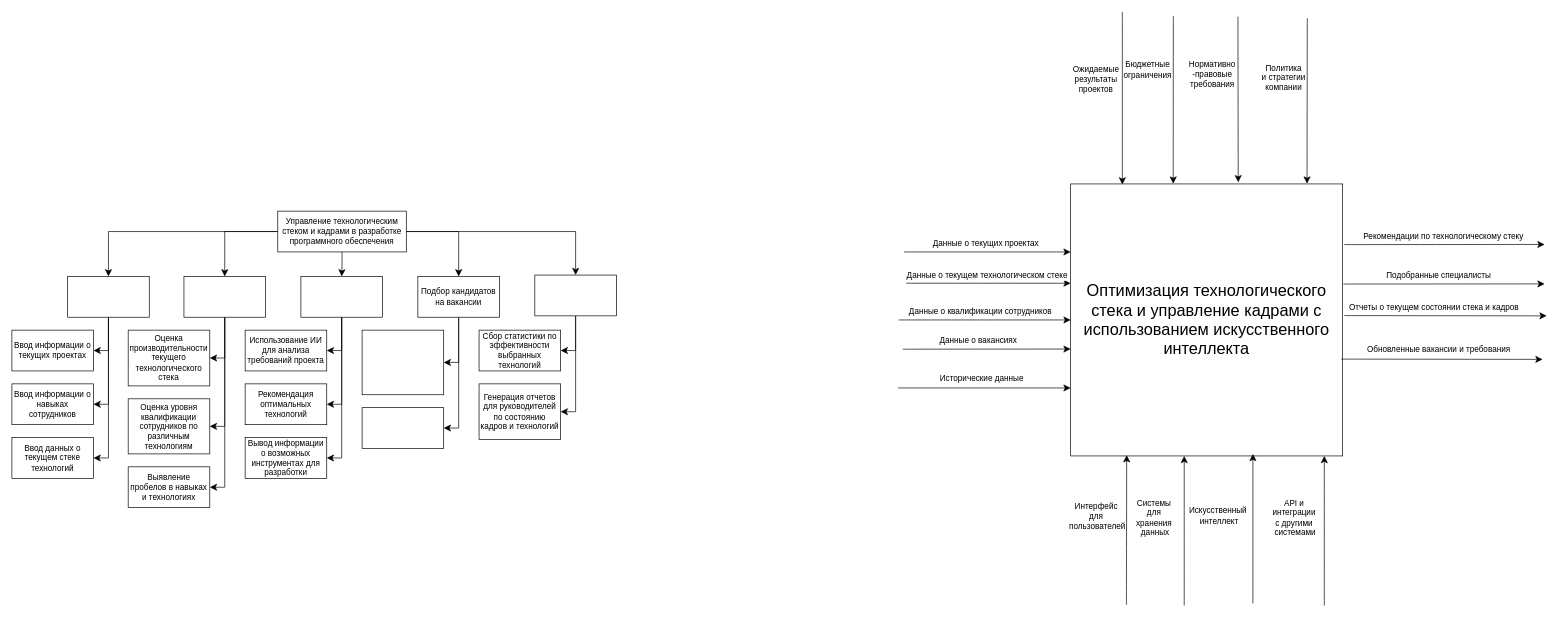
This 1558x617 diagram has some shape labels left out. Here are the shapes that lost their labels. From the top down, the centre of each, then its label:
At (x=108, y=296): "Сбор данных".
At (x=224, y=296): "Анализ текущих данных".
At (x=341, y=296): "Подбор оптимального стека технологий".
At (x=575, y=295): "Мониторинг и отчетность".
At (x=402, y=362): "Применение ИИ для подбора специалистов, соответствующих требованиям проекта".
At (x=402, y=427): "Подбор сотрудников с нужными навыками для новых проектов".
